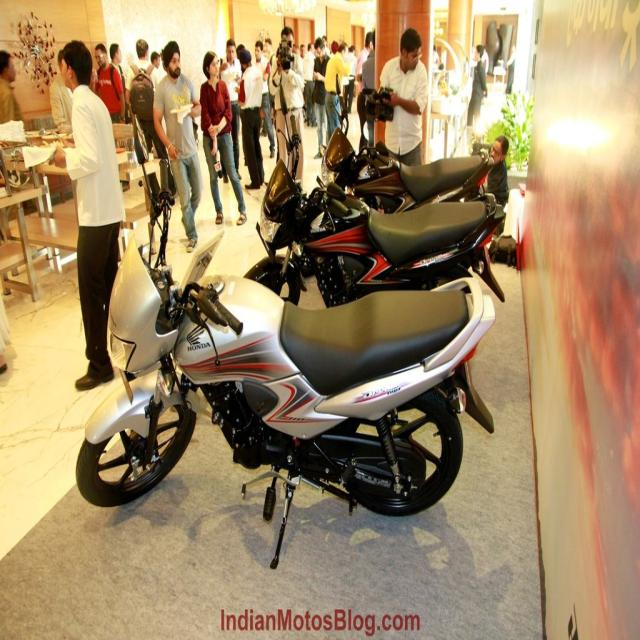Motorbikes: (78, 176, 496, 576), (251, 119, 508, 316), (313, 95, 494, 209)
